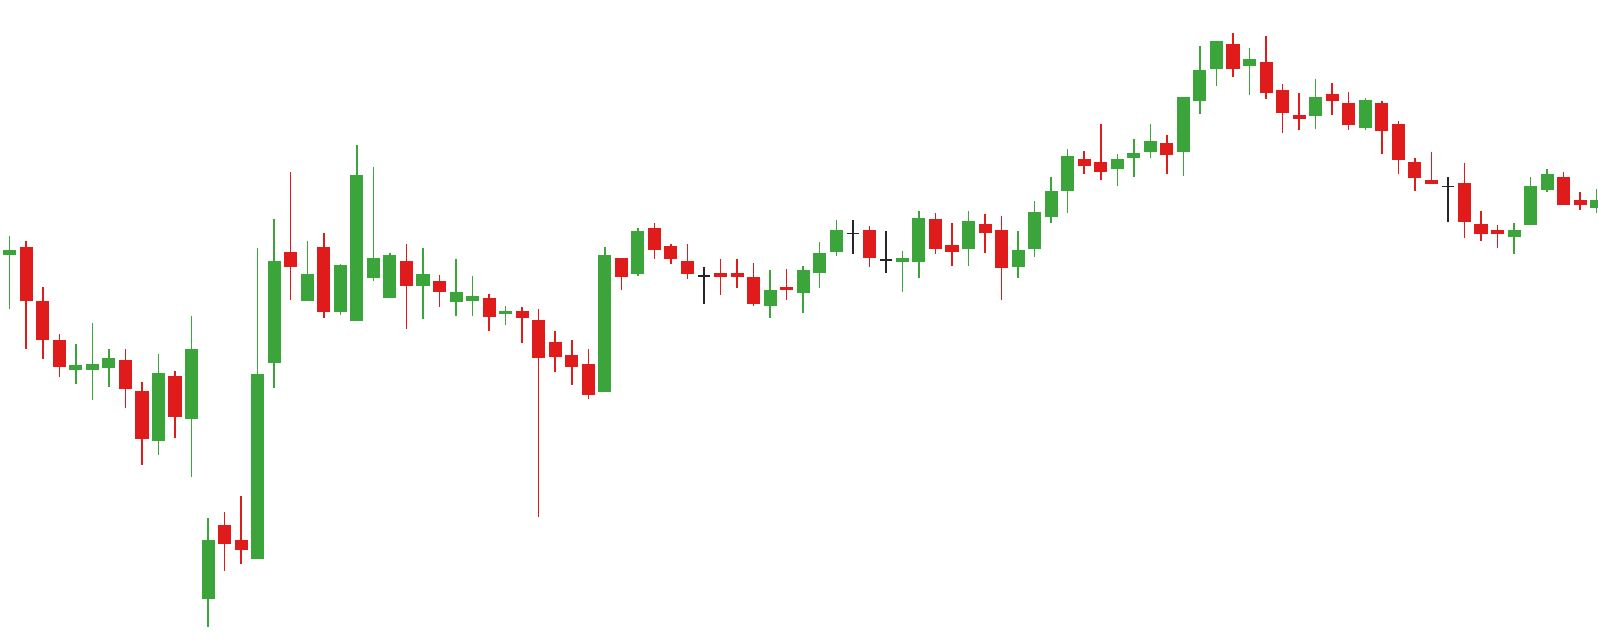buy: (894, 234, 1029, 302)
